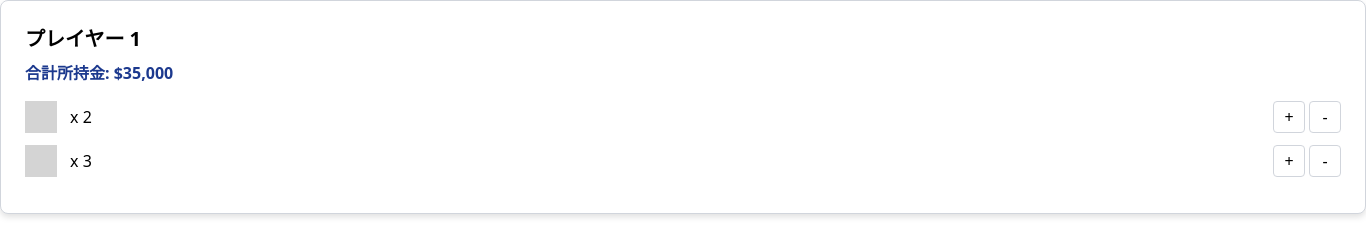
PlayerBoard › プレイヤー名をクリックすると編集モードになる
This screenshot has width=1366, height=245.
Click the text "プレイヤー 1": (83, 38) x1=25 y1=25 x2=141 y2=52
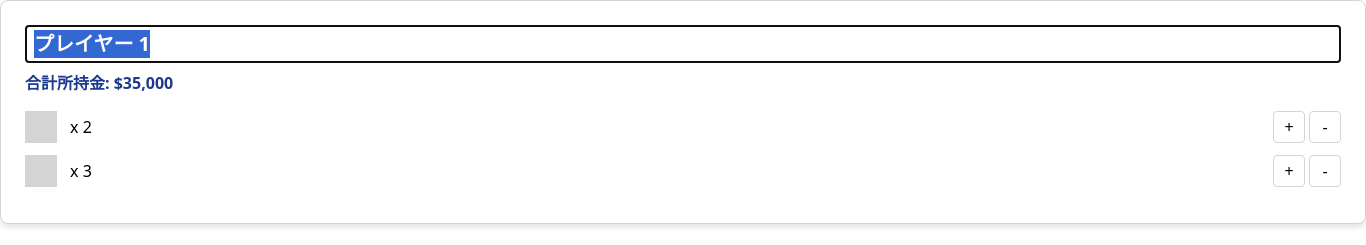
Expected: the field holds "プレイヤー 1", x1=25 y1=25 x2=1341 y2=63
